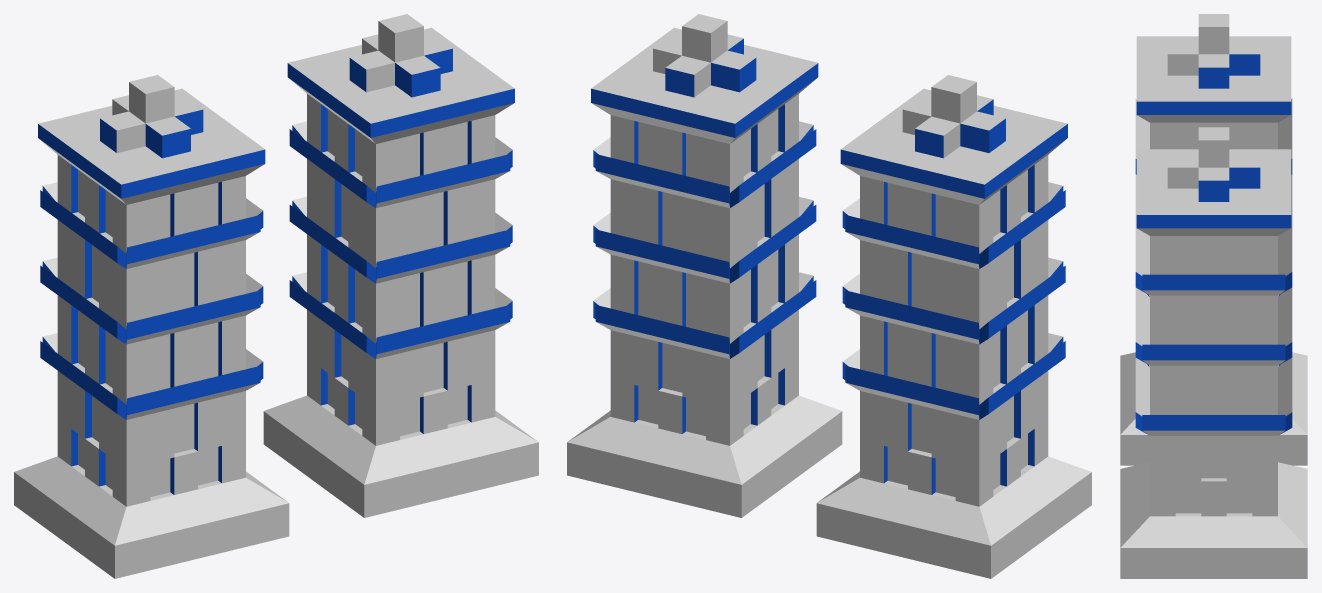
The model's file is UnderseaApartment.fbx.
3 renders of one model, left to right at view 1: azimuth 30°, elevation 25°; view 2: azimuth 150°, elevation 25°; view 3: azimuth 270°, elevation 25°, orthographic. The views are drawn at different scales.
Parts seen in each view (by area): view 1: UnderseaApartment1, UnderseaApartment2; view 2: UnderseaApartment1, UnderseaApartment2; view 3: UnderseaApartment2, UnderseaApartment1.
Part boxes in pixels (box(x1,y1,x2,y2)): UnderseaApartment1: box(14, 75, 289, 578); UnderseaApartment2: box(263, 14, 538, 517); UnderseaApartment1: box(816, 75, 1091, 578); UnderseaApartment2: box(567, 14, 842, 517); UnderseaApartment2: box(1120, 127, 1307, 578); UnderseaApartment1: box(1120, 14, 1307, 465).
Bounding box in the file's own units: 170 × 167 × 70.
